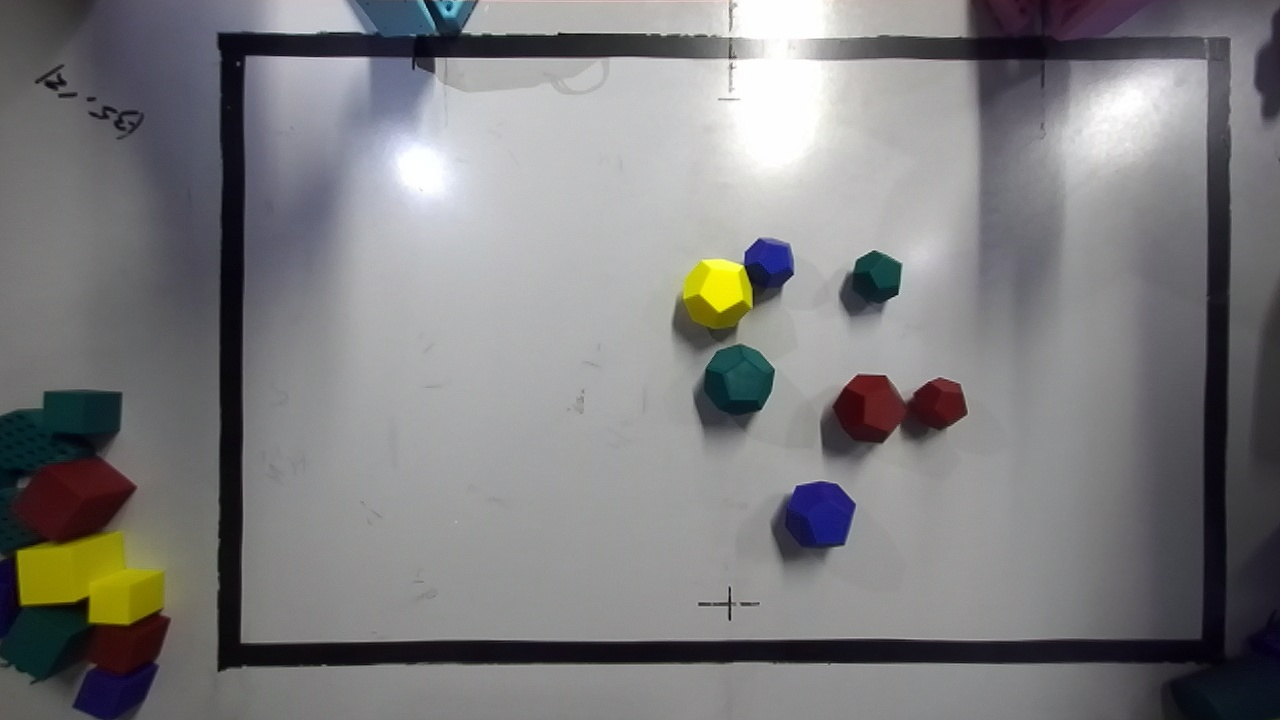cube: (703, 344, 774, 414), (833, 374, 906, 442), (682, 259, 752, 328), (785, 481, 855, 547), (908, 378, 967, 428), (852, 250, 901, 302), (744, 238, 793, 287)
